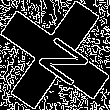N_NW: (23, 24, 87, 86)
